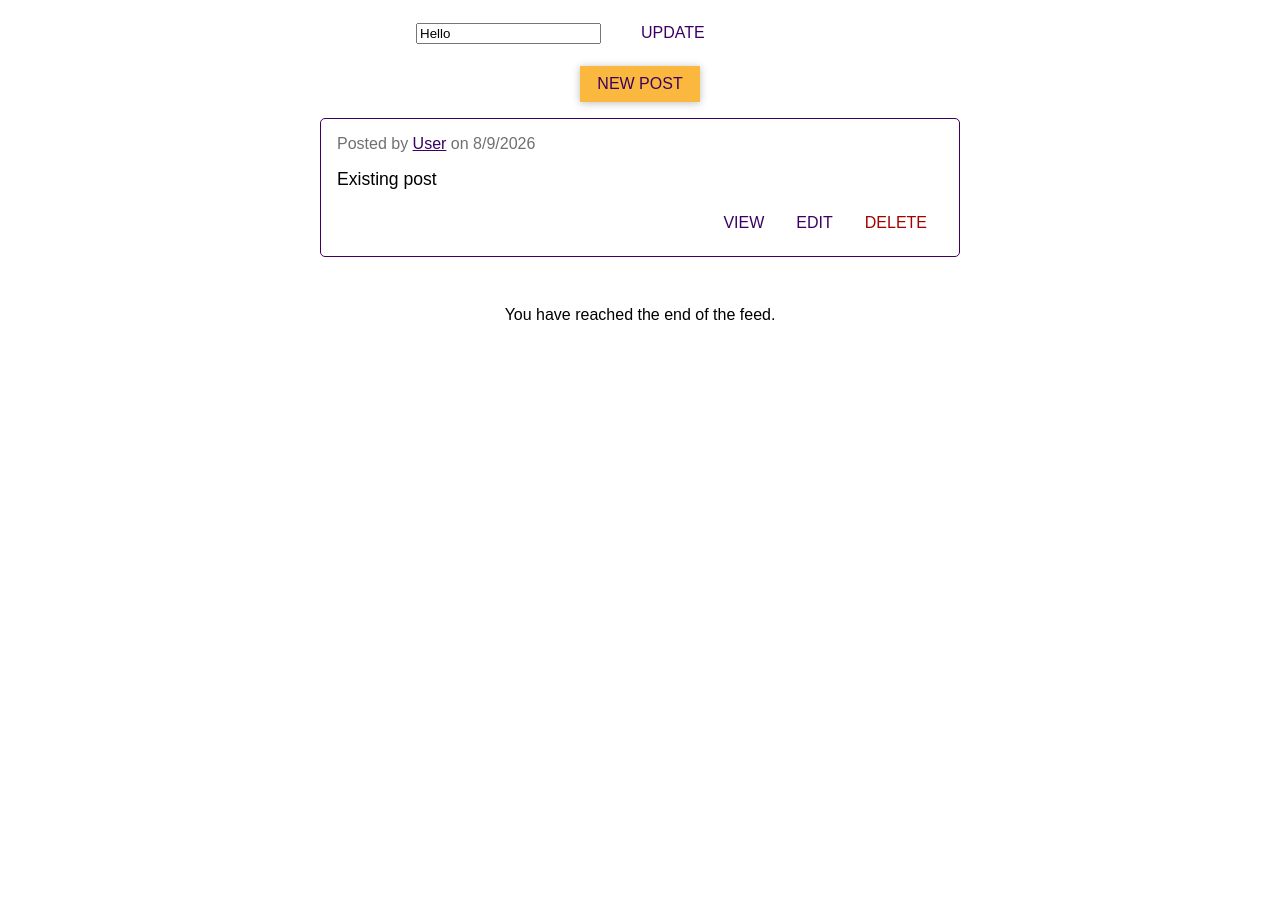
Test: Feed › treats a created post as saved when the refetch fails, and retries only the refresh
Expected: the text "Existing post" is shown, [337, 169, 437, 189]
Step 1. Click the button "New Post" → (640, 84), box [580, 66, 700, 102]
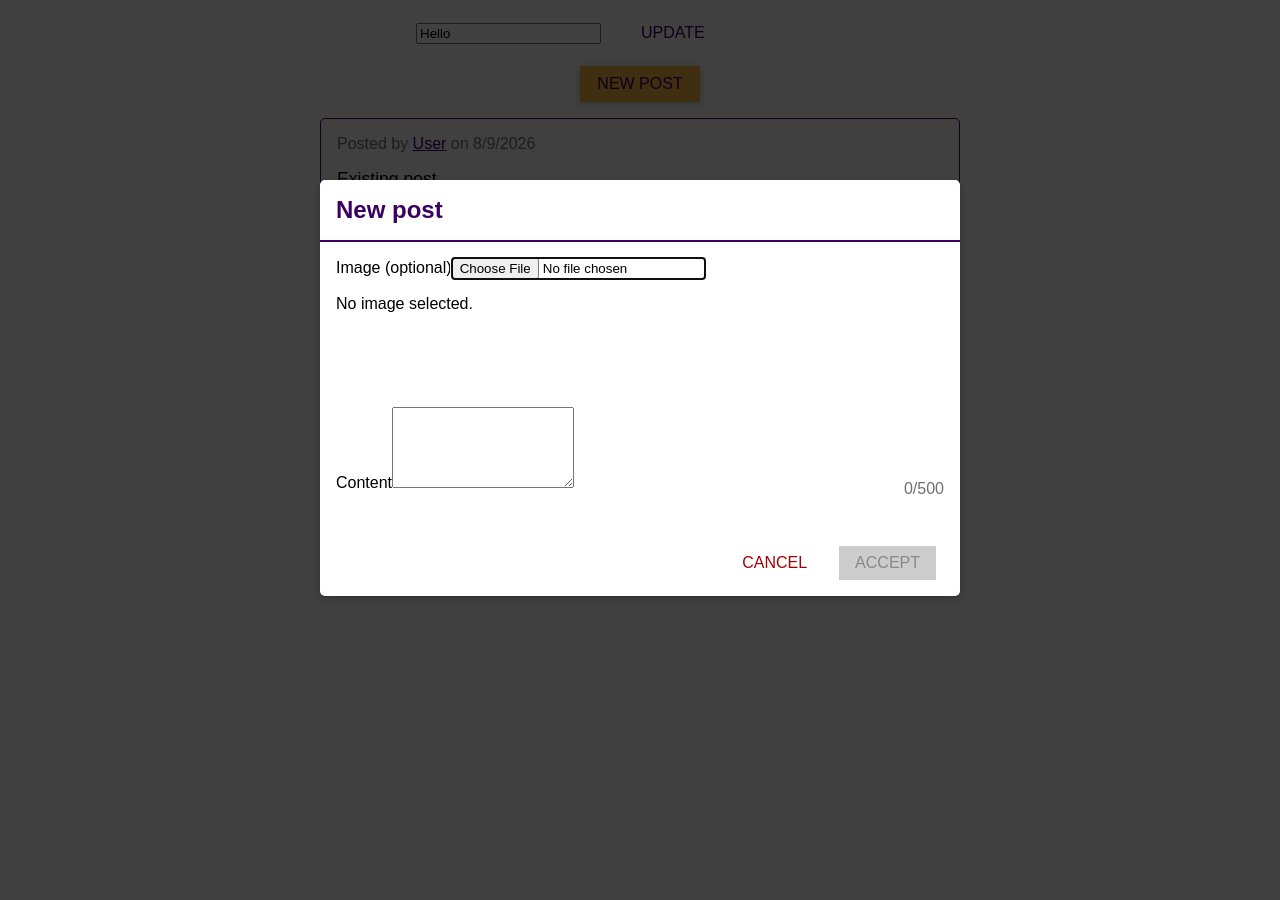
Step 2. Type "Brand new post" into the text box labelled "Content" → (483, 448), box [392, 407, 574, 488]
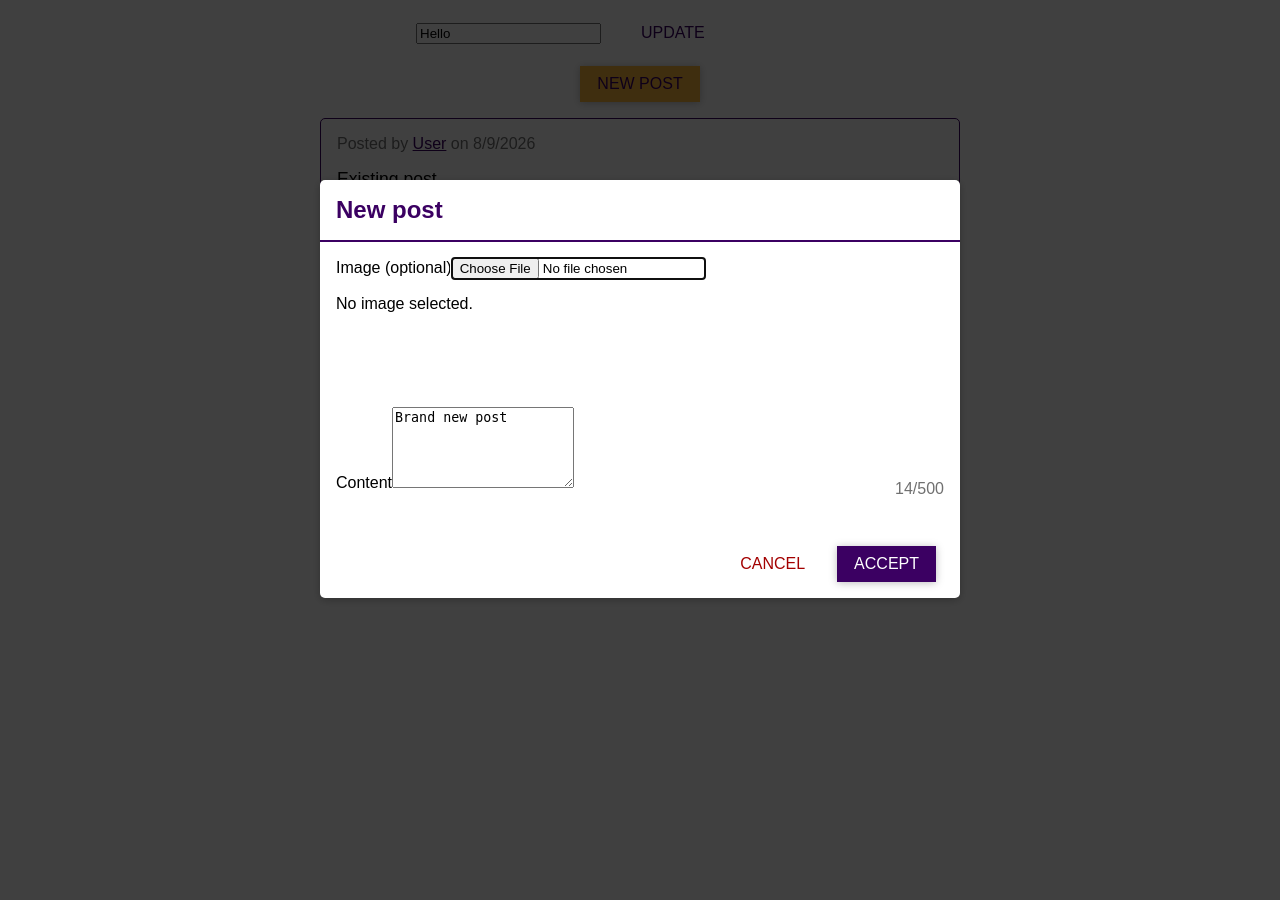
Step 3. Click the button "Accept" → (887, 564), box [837, 546, 936, 582]
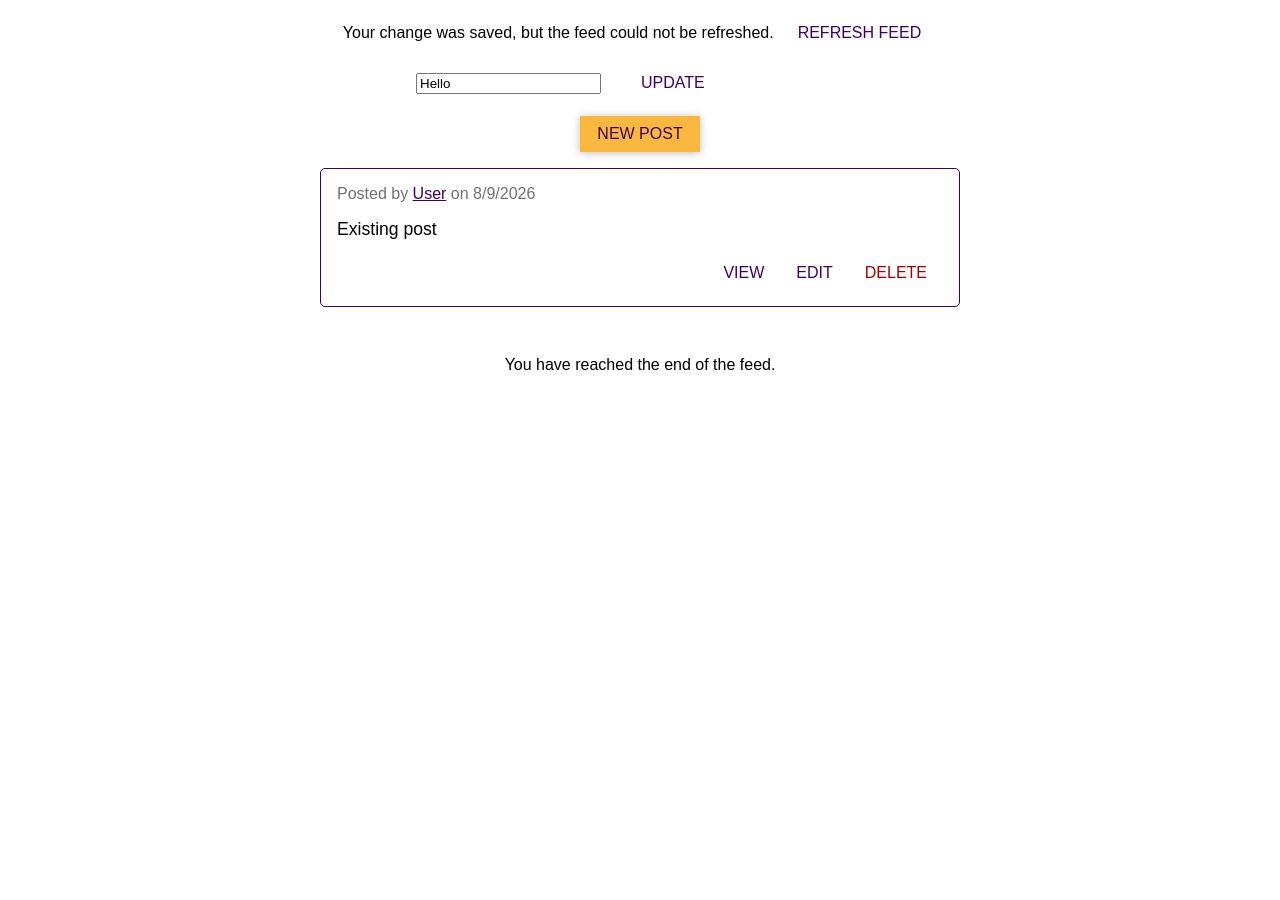
Now the message named "Feed refresh" shows "Your change was saved, but the feed could not be refreshed.", box [343, 24, 774, 41]
Now the dialog is gone
Step 4. Click the button "Refresh feed" → (859, 33), box [782, 16, 937, 50]
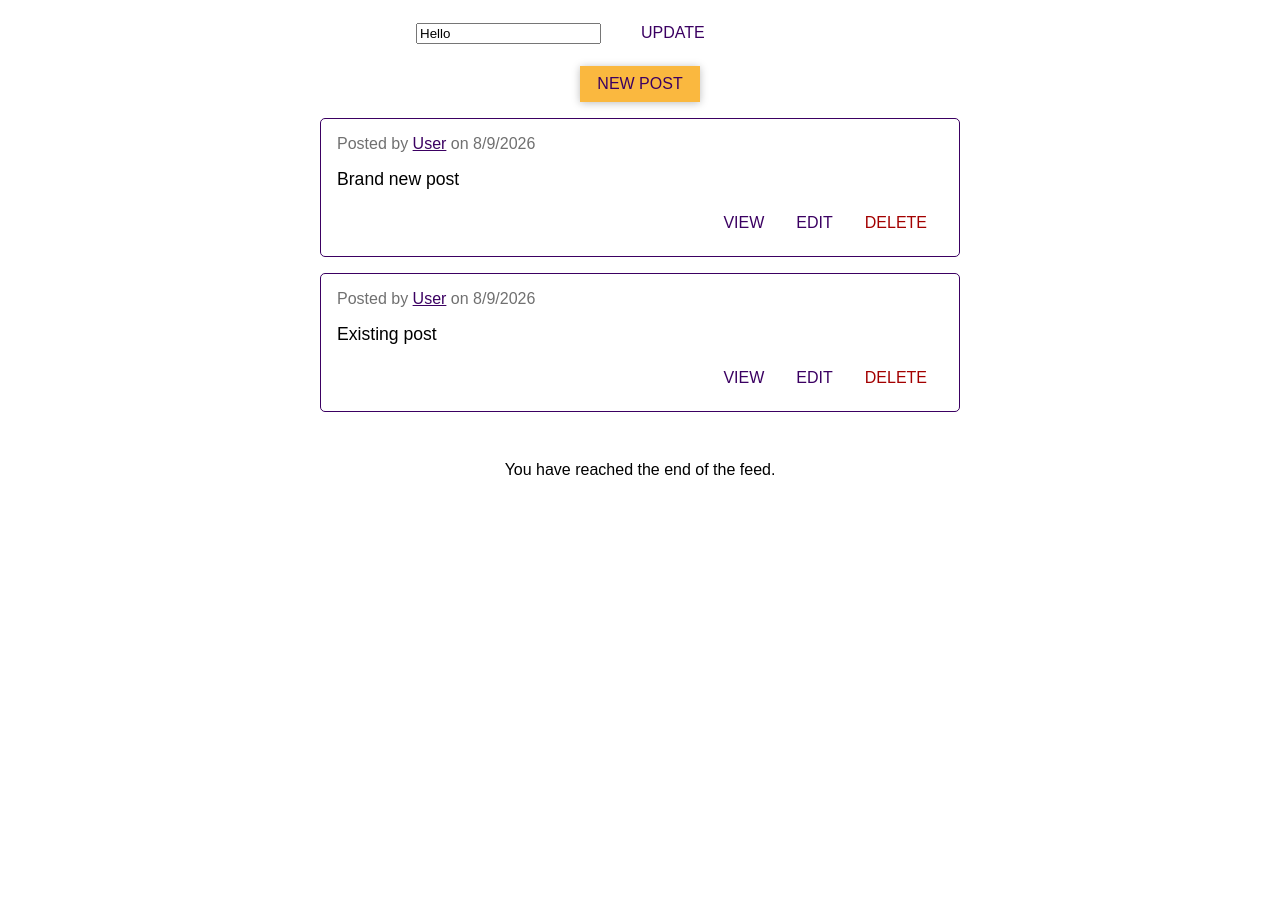
Now the text "Brand new post" is shown, box [337, 169, 459, 189]
